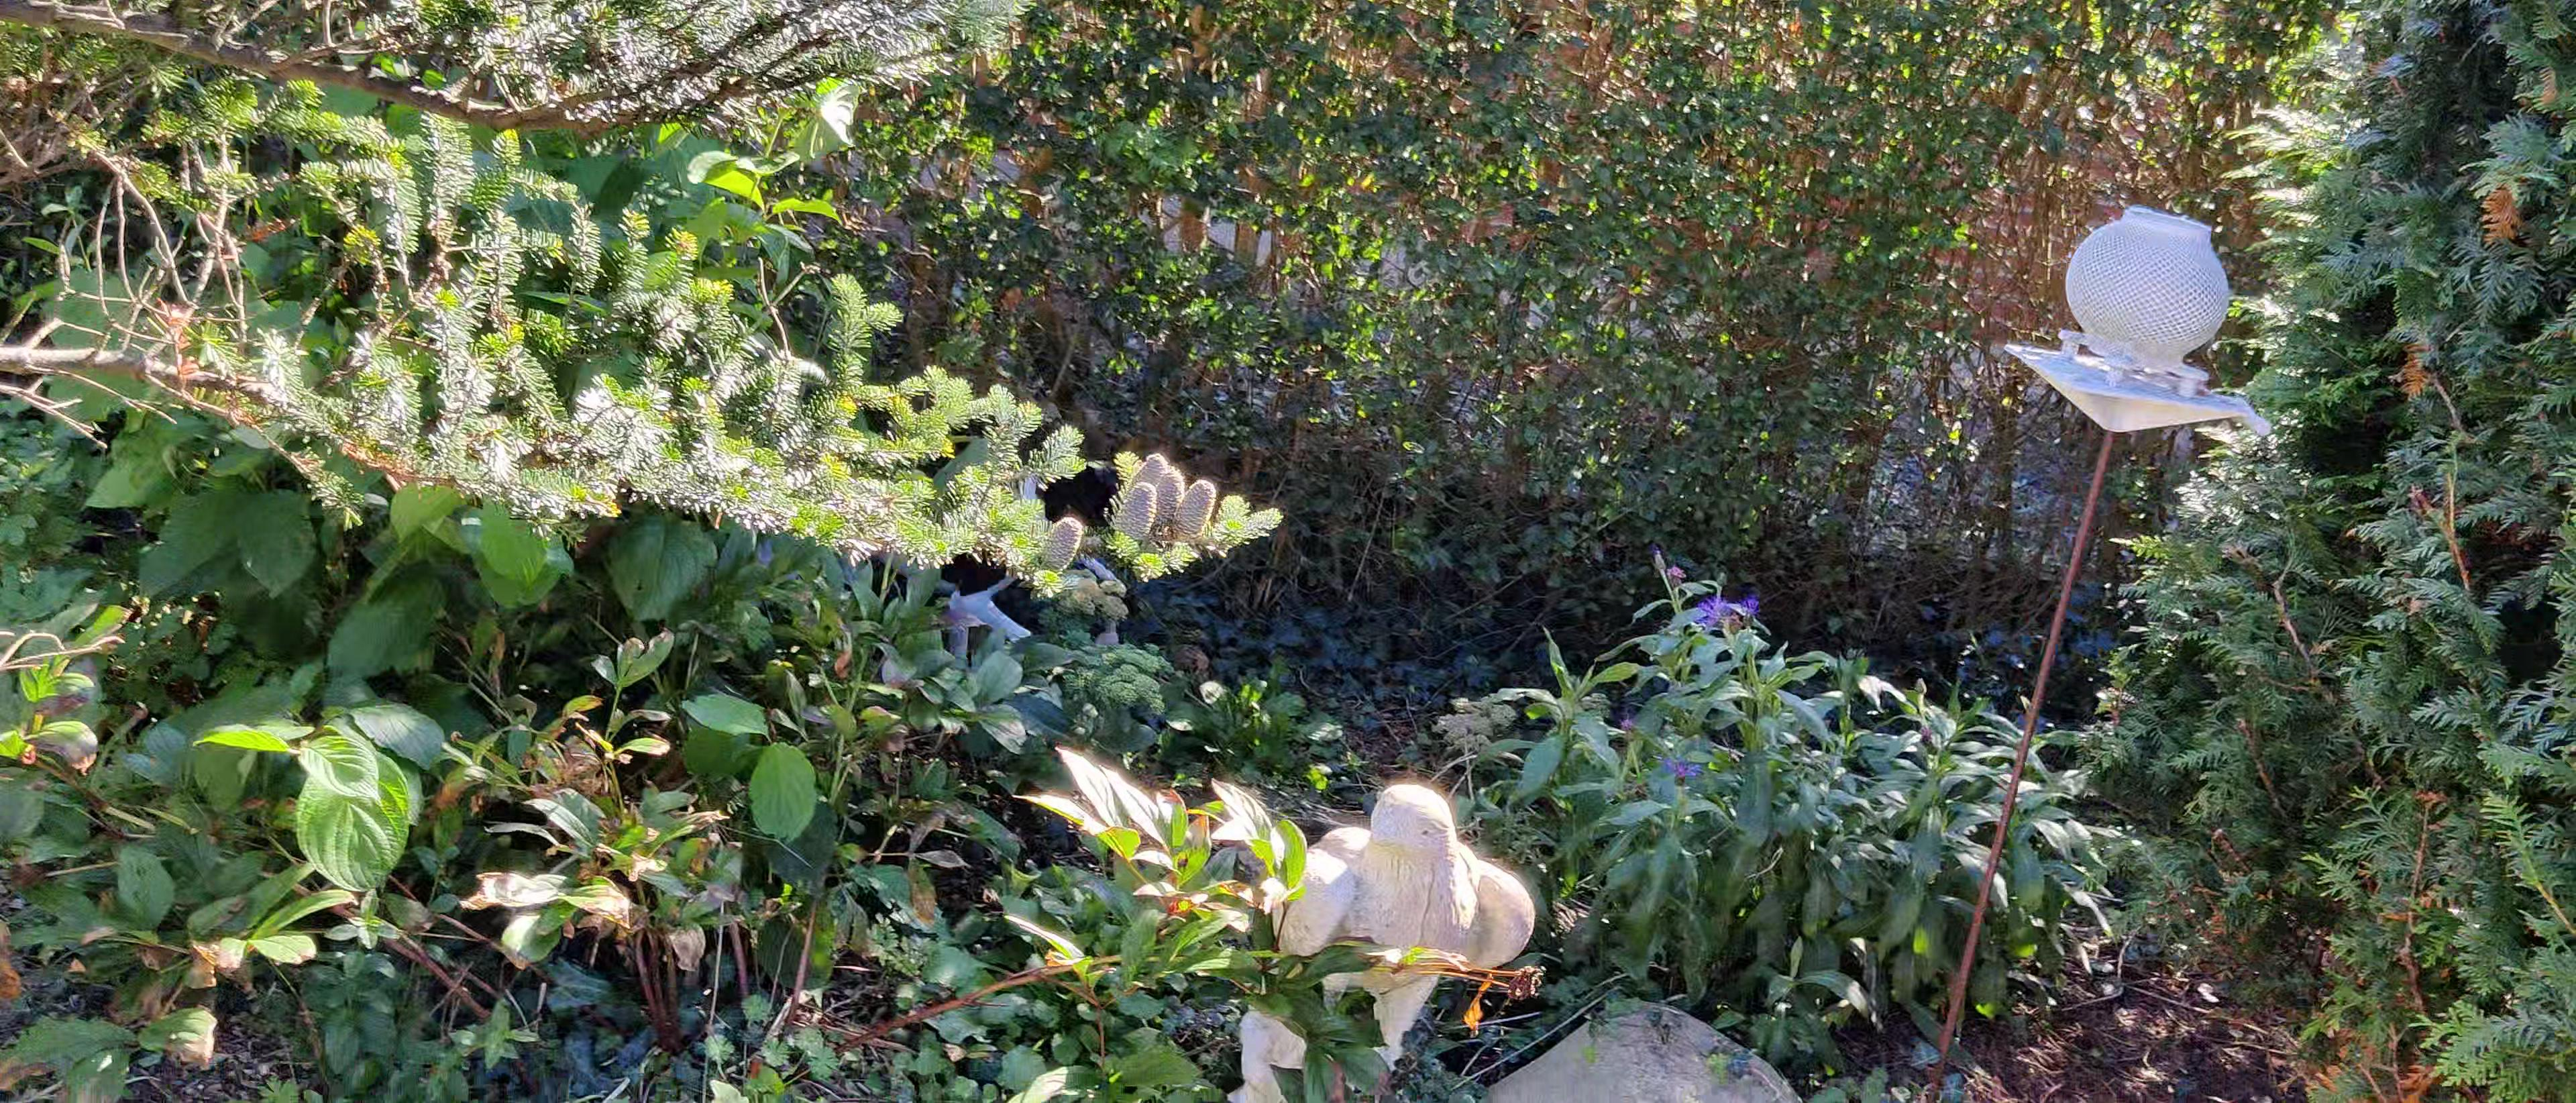Dog: (869, 455, 1120, 667)
